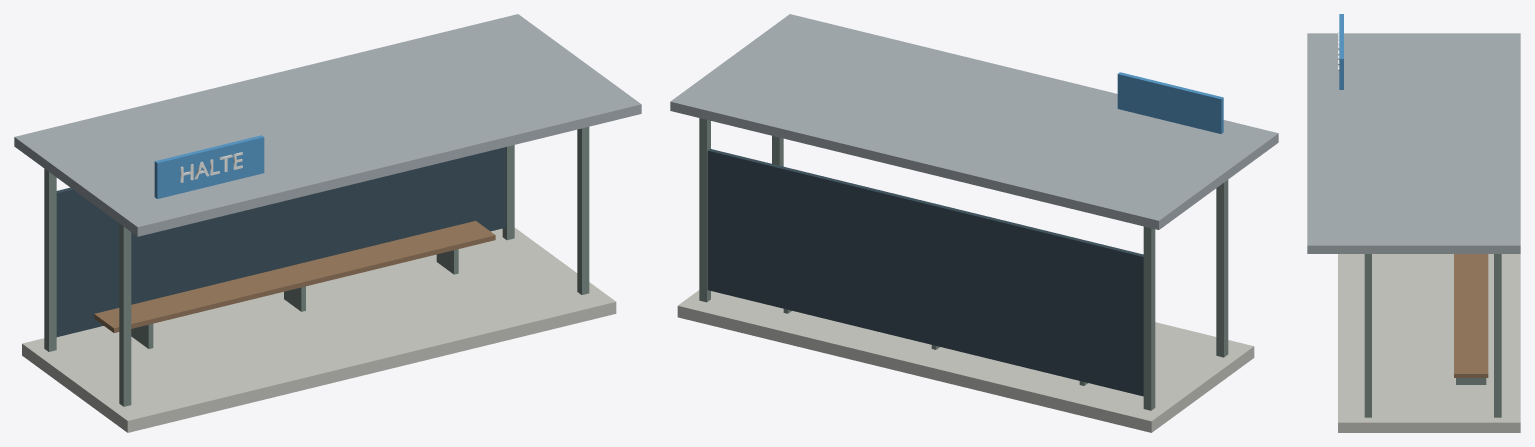
Rendered from bus-stop.glb.
3 renders of one model, left to right at view 1: azimuth 30°, elevation 25°; view 2: azimuth 150°, elevation 25°; view 3: azimuth 270°, elevation 25°, orthographic. The views are drawn at different scales.
Parts seen in each view (by area): view 1: shelter; view 2: shelter; view 3: shelter.
Part boxes in pixels (x1,y1,x2,y2): shelter: [14, 14, 641, 432]; shelter: [670, 14, 1278, 432]; shelter: [1307, 14, 1520, 432].
Size of the model in its own units: 6.6 by 3.27 by 2.8.
